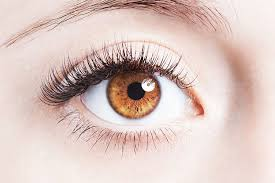pupil: (107, 70, 160, 118)
